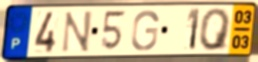1: (186, 7, 202, 53)
4: (32, 10, 58, 55)
5: (99, 9, 128, 53)
G: (130, 9, 161, 52)
N: (59, 9, 94, 54)
Q: (199, 7, 233, 52)
